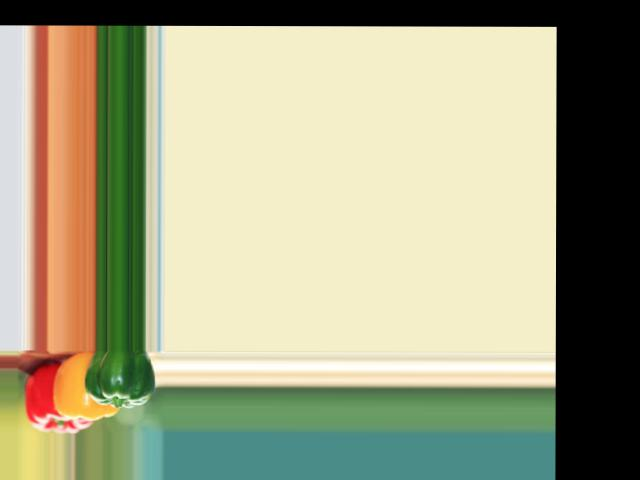bell_pepper: (25, 353, 93, 432)
